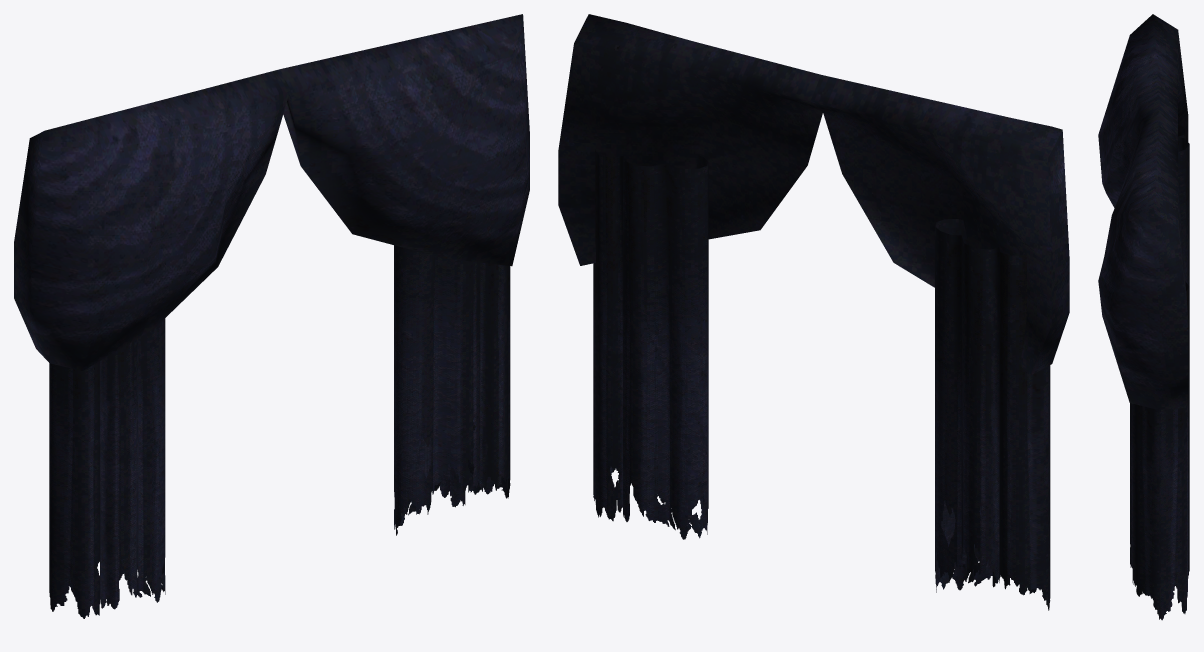
Rendered from curtain04_long_broken.dae.
3 renders of one model, left to right at view 1: azimuth 30°, elevation 25°; view 2: azimuth 150°, elevation 25°; view 3: azimuth 270°, elevation 25°, orthographic. The views are drawn at different scales.
Parts seen in each view (by area): view 1: polySurface191, polySurface192; view 2: polySurface191, polySurface192; view 3: polySurface191.
Boxes of the visible parts, x1,y1,x2,y2 form: polySurface191: [14, 14, 529, 618]; polySurface192: [68, 419, 494, 594]; polySurface191: [558, 14, 1069, 610]; polySurface192: [610, 466, 1030, 593]; polySurface191: [1098, 14, 1189, 620].
Size of what is drawn, in the model's own units: 2.5 by 2.42 by 0.4673.
